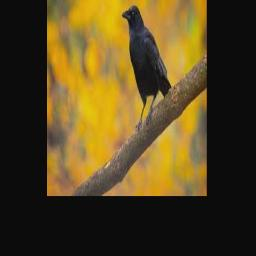Crow: (122, 5, 172, 133)
